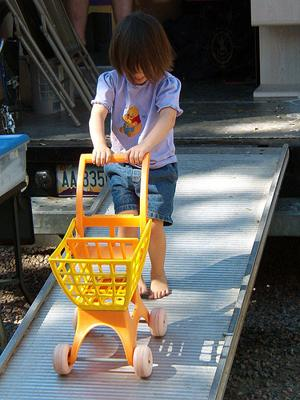person: (88, 13, 182, 301)
